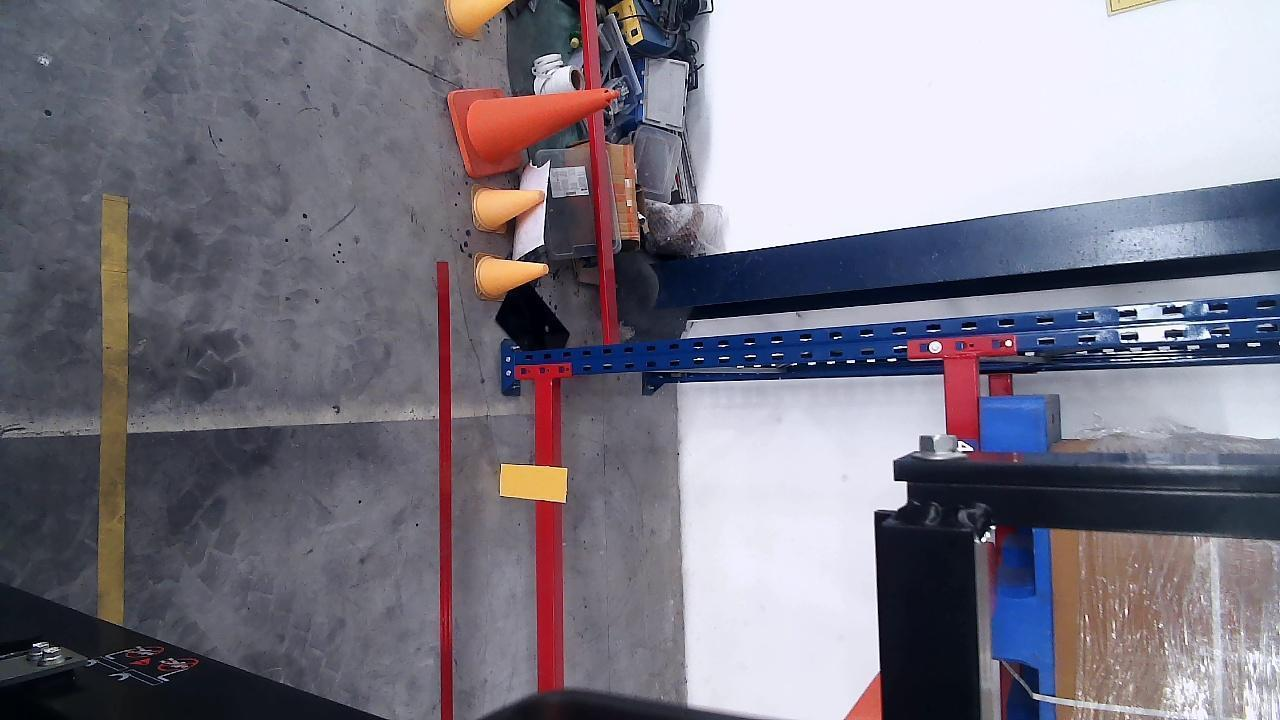red_line: (437, 261, 453, 720)
yellow_line: (98, 195, 128, 625)
